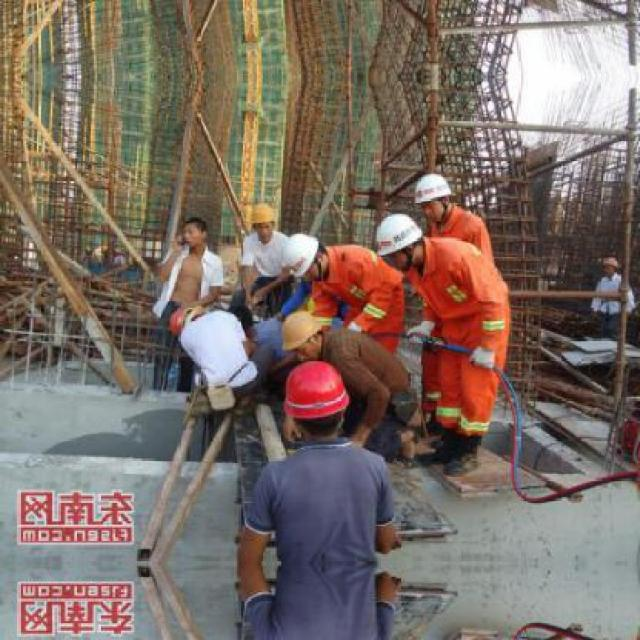Reflective-Jacket: (411, 234, 515, 369), (317, 243, 406, 354)
Safety-Helmet: (277, 357, 357, 425), (366, 206, 428, 260), (274, 306, 332, 357), (282, 229, 328, 285), (404, 166, 458, 211), (240, 197, 280, 232), (602, 254, 622, 271)
